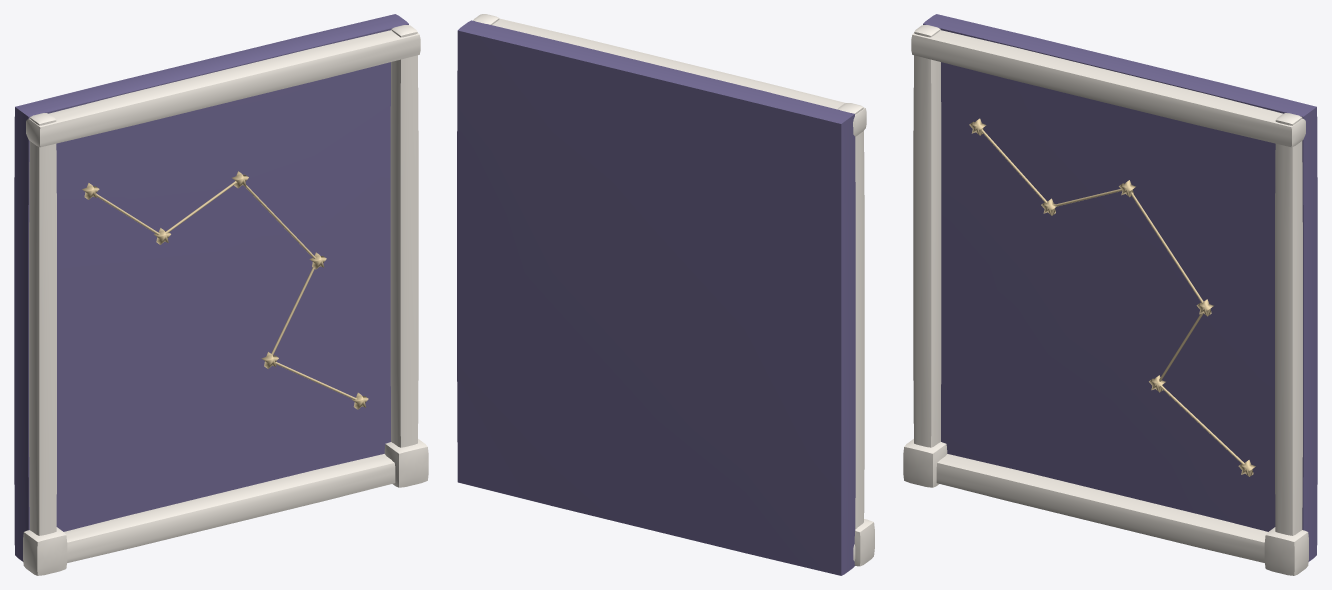
The model's file is constellation_wall.glb.
3 renders of one model, left to right at view 1: azimuth 30°, elevation 25°; view 2: azimuth 150°, elevation 25°; view 3: azimuth 330°, elevation 25°, orthographic.
Parts seen in each view (by area): view 1: wall core, cornice (×2), pilaster (×2), column foot (×2); view 2: wall core, pilaster, cornice, column foot; view 3: wall core, cornice (×2), pilaster (×2), column foot (×2).
Part boxes in pixels (x1,y1,x2,y2): wall core: (14, 14, 408, 561); cornice (×2): (26, 30, 420, 562); pilaster (×2): (29, 25, 418, 535); column foot (×2): (23, 439, 428, 575); wall core: (457, 20, 855, 575); pilaster: (837, 103, 864, 528); cornice: (492, 18, 866, 136); column foot: (854, 519, 874, 566); wall core: (923, 14, 1317, 561); cornice (×2): (911, 30, 1305, 562); pilaster (×2): (913, 25, 1302, 535); column foot (×2): (903, 439, 1308, 575).
Bounding box in the file's own units: 3.29 × 3.6 × 0.425.
